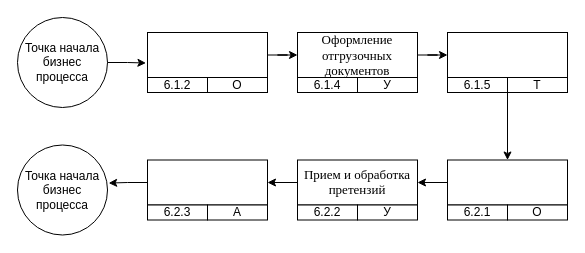
This 585x253 diagram has some shape labels left out. Here are the shapes that lost their labels. From the top down, the centre of each, then its label:
point (207, 55): Обработка заказов клиентов
point (507, 55): Отгрузка продукции
point (207, 182): Мониторинг удовлетворенности клиентов
point (507, 182): Консультирование клиентов
